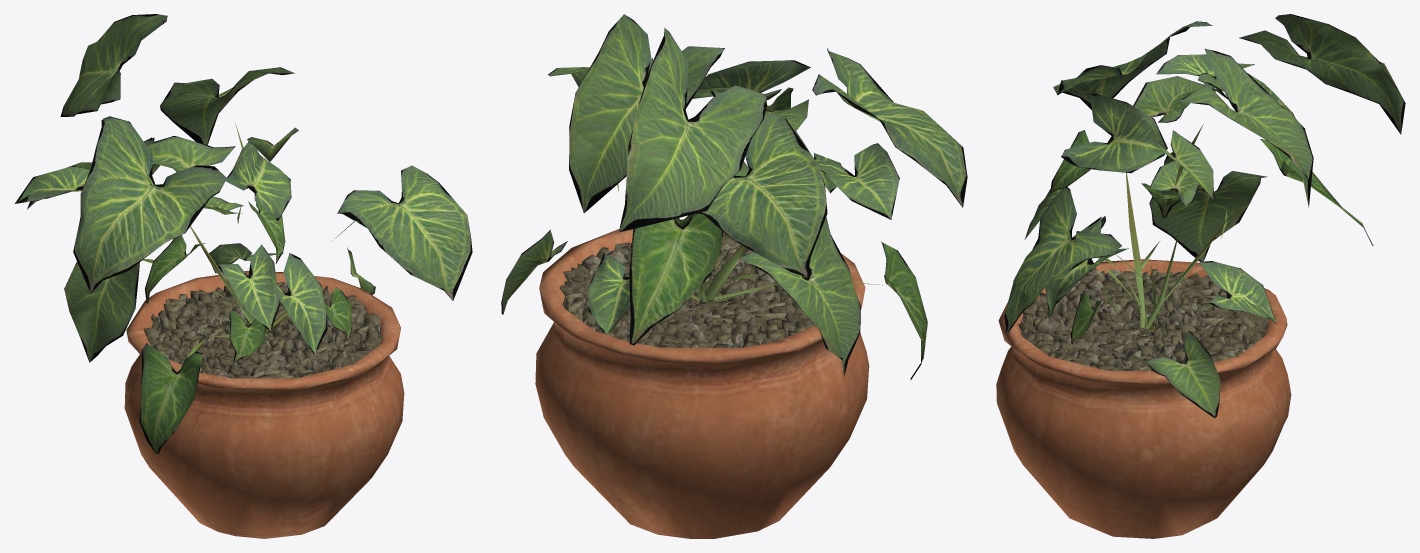
File: potted_plant_2.glb
3 renders of one model, left to right at view 1: azimuth 30°, elevation 25°; view 2: azimuth 150°, elevation 25°; view 3: azimuth 270°, elevation 25°, orthographic. The views are drawn at different scales.
Parts seen in each view (by area): view 1: potted_plant_02_leaves, potted_plant_02_pot, potted_plant_02_dirt; view 2: potted_plant_02_leaves, potted_plant_02_pot, potted_plant_02_dirt; view 3: potted_plant_02_leaves, potted_plant_02_pot, potted_plant_02_dirt.
Part boxes in pixels (x1,y1,x2,y2): potted_plant_02_leaves: [15, 14, 472, 454]; potted_plant_02_pot: [124, 271, 404, 538]; potted_plant_02_dirt: [143, 282, 383, 378]; potted_plant_02_leaves: [501, 14, 967, 379]; potted_plant_02_pot: [535, 219, 869, 538]; potted_plant_02_dirt: [559, 233, 814, 347]; potted_plant_02_leaves: [1004, 14, 1405, 417]; potted_plant_02_pot: [996, 259, 1291, 538]; potted_plant_02_dirt: [1018, 268, 1268, 370].
Size of the model in its own units: 0.7009 by 0.8395 by 0.6561.
Materials: 2 (2 with a texture image).
